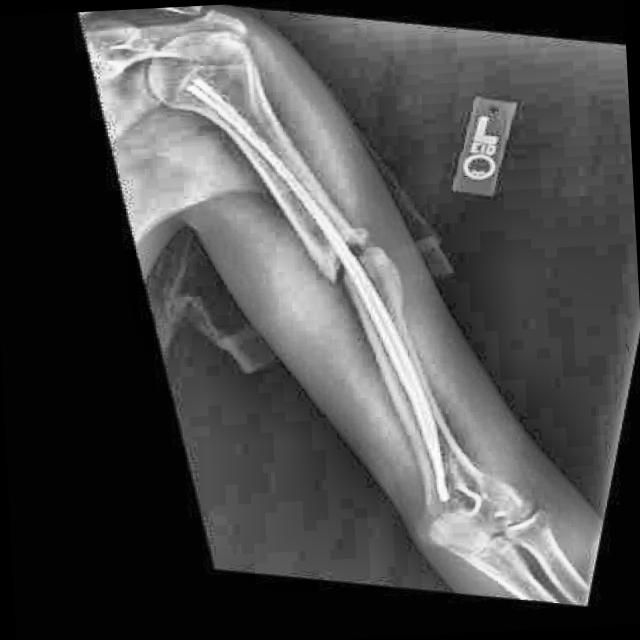humerus: (282, 183, 444, 363)
